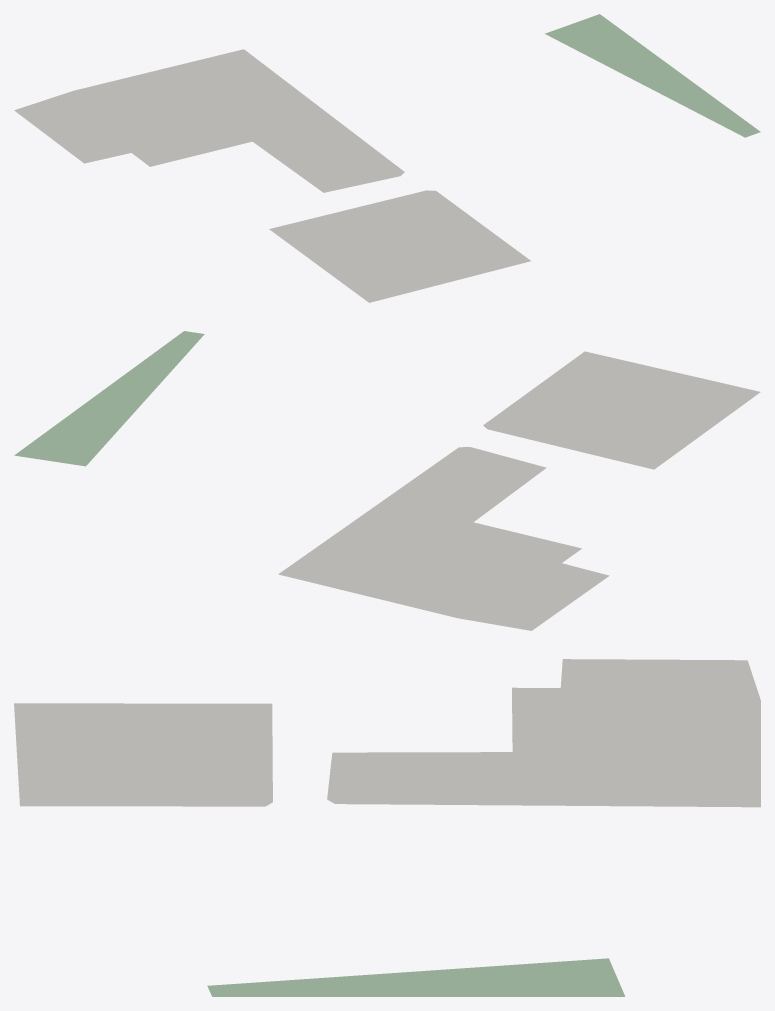
File: 119_116_mid.glb
3 views of the same model, one above another, from view 1: azimuth 30°, elevation 25°; view 2: azimuth 150°, elevation 25°; view 3: azimuth 270°, elevation 25° (orthographic). The views are drawn at different scales.
Bounding box in the file's own units: 488 × 0.081 × 456.
